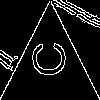C: (25, 41, 65, 78)
